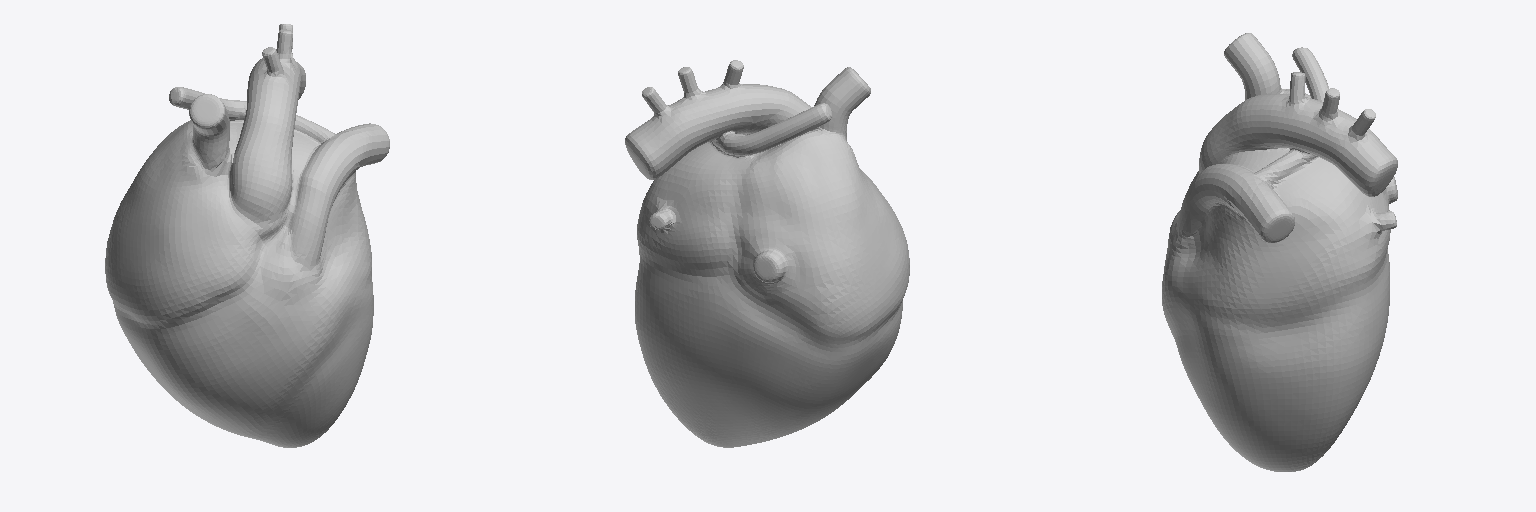
The model's file is heart.obj.
The picture shows the model from 3 angles: view 1: azimuth 30°, elevation 25°; view 2: azimuth 150°, elevation 25°; view 3: azimuth 270°, elevation 25°; orthographic projection.
Parts seen in each view (by area): view 1: hart:ZBrush_defualt_group; view 2: hart:ZBrush_defualt_group; view 3: hart:ZBrush_defualt_group.
Part boxes in pixels (left/top/right/bottom): hart:ZBrush_defualt_group: left=105, top=24, right=389, bottom=447; hart:ZBrush_defualt_group: left=625, top=60, right=909, bottom=447; hart:ZBrush_defualt_group: left=1162, top=33, right=1397, bottom=471.
Bounding box in the file's own units: 6.22 × 9.19 × 5.05.